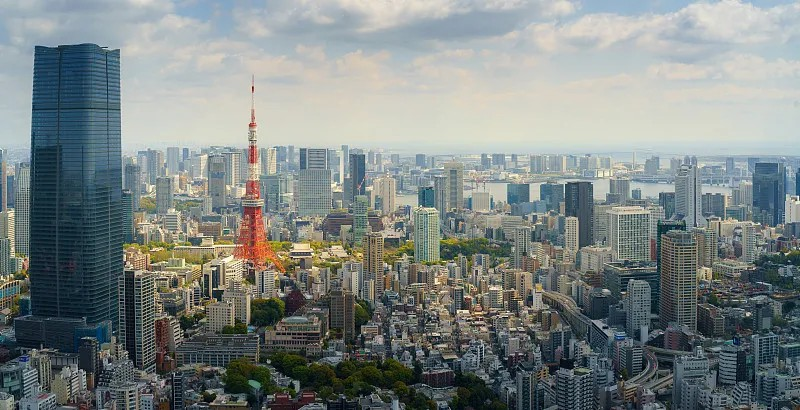Tokyo: (232, 75, 289, 276)
